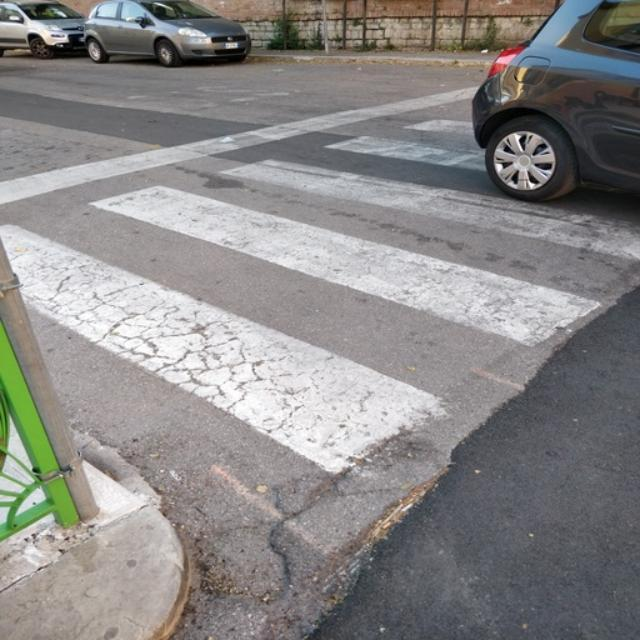sidewalk: (2, 110, 639, 477)
